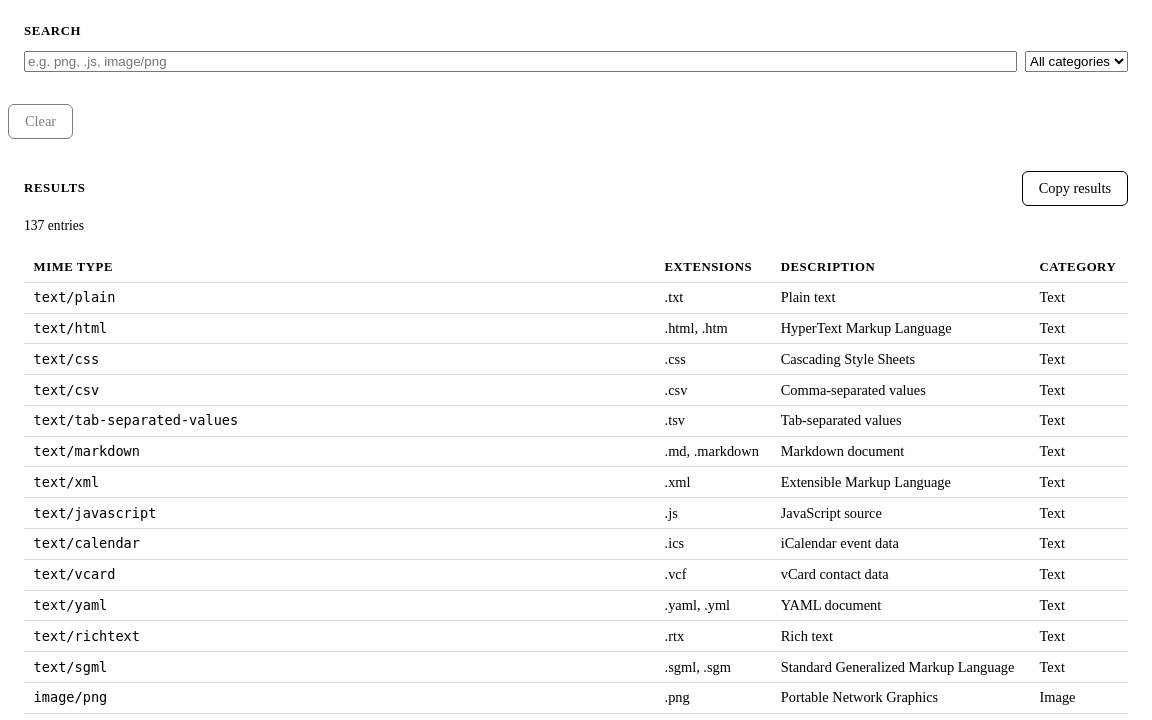
it: MimeTypeReferenceTool › clears the search query and category filter
Type "png" into the search field named "Search MIME types". click: (520, 62)
box: [24, 51, 1017, 72]
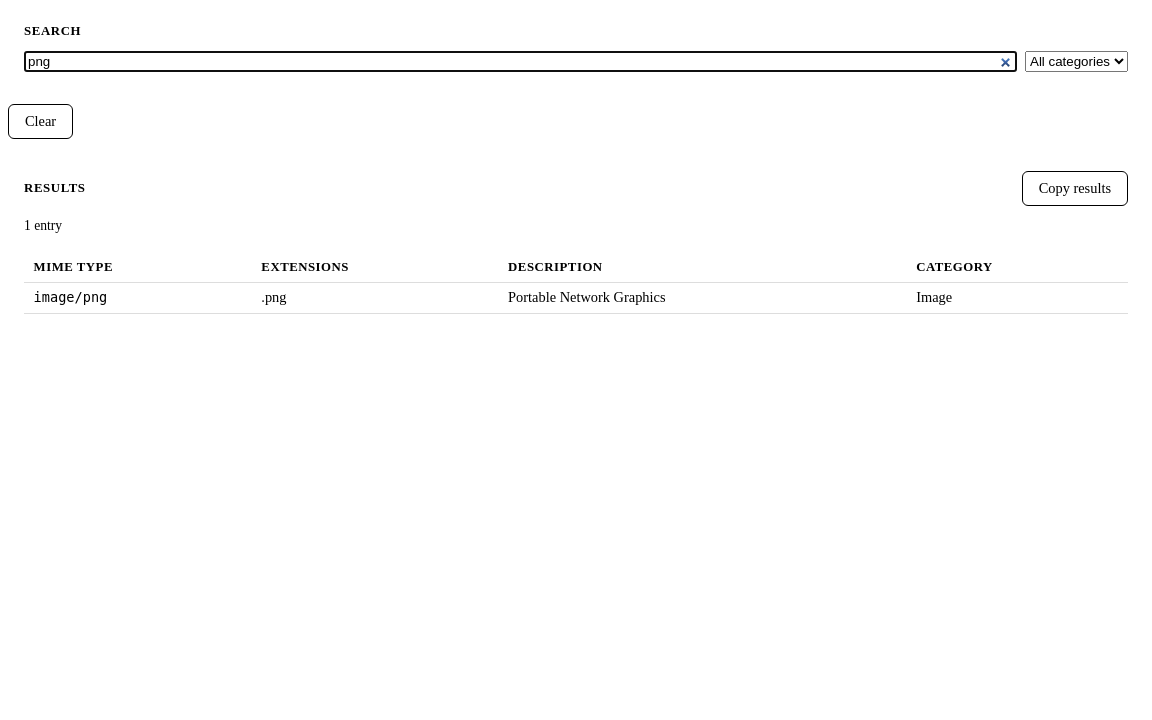
Select "Image" in the dropdown named "Category". click: (1076, 62)
box: [1025, 51, 1128, 72]
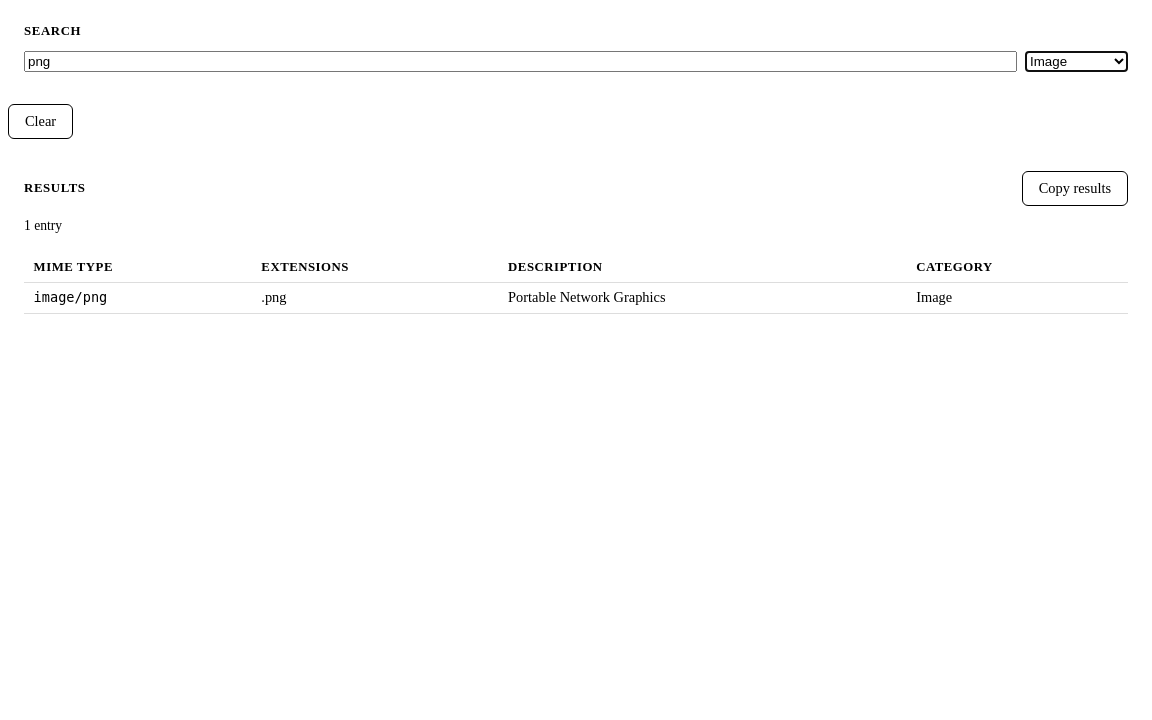
Click the button "Clear". click: click(41, 122)
box: [8, 104, 73, 139]
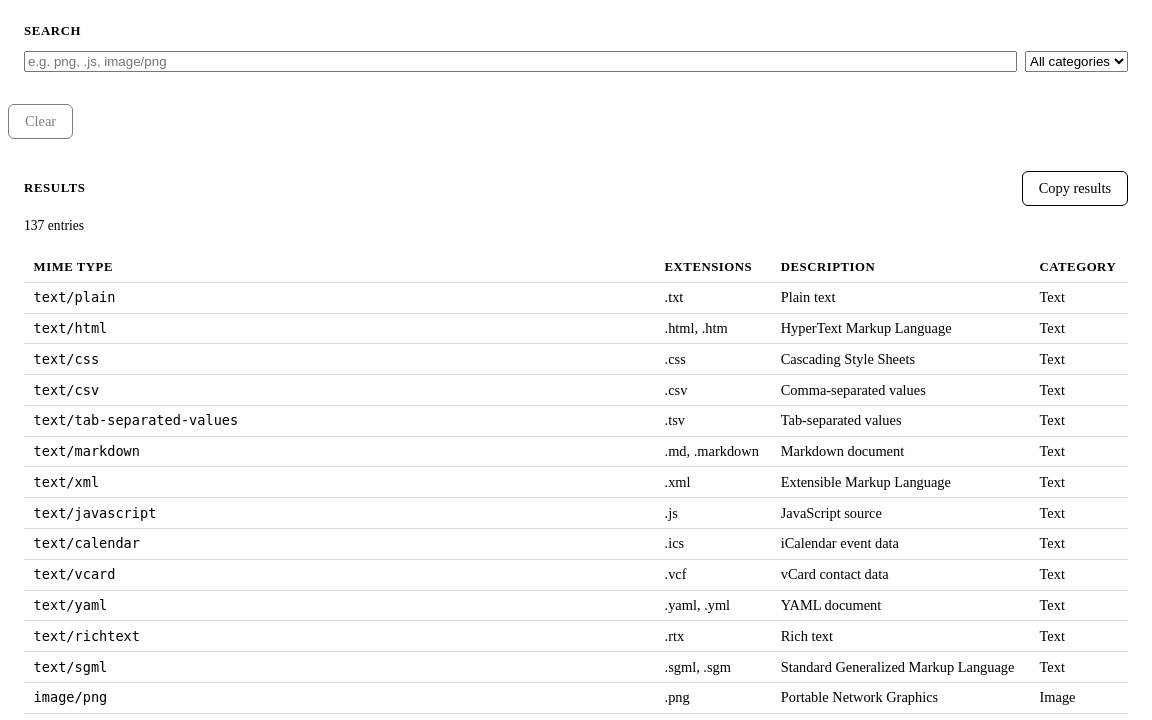
Expected: the text "image/png" is shown, [34, 689, 107, 705]
Expected: the search field named "Search MIME types" is empty, [24, 51, 1017, 72]
Expected: the text "text/plain" is shown, [34, 289, 115, 305]
